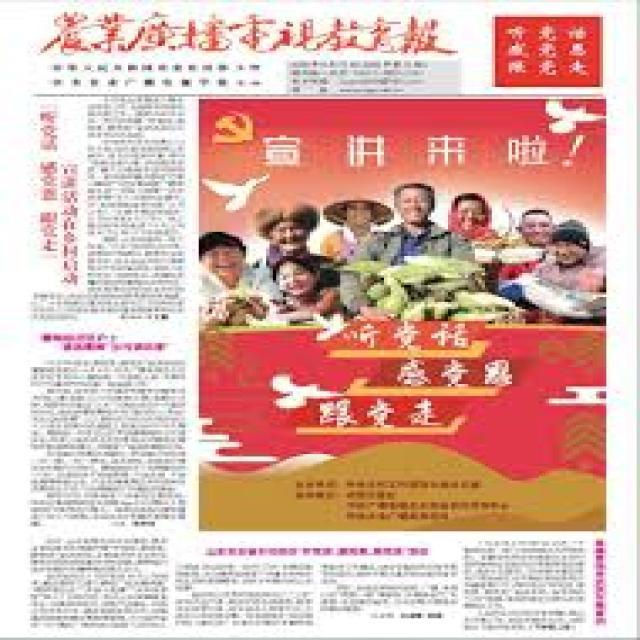Newspaper: (13, 4, 640, 639)
